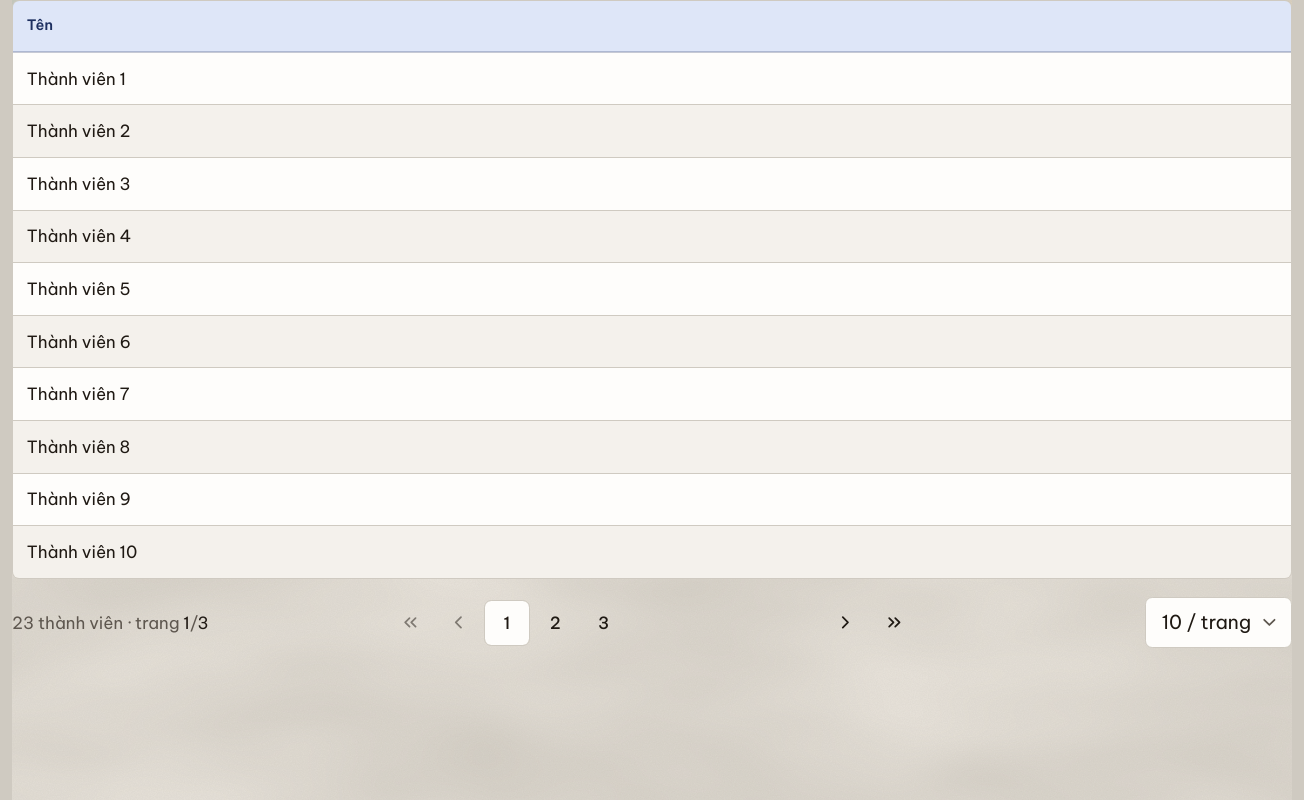
Test: DataTable › thanh phân trang đếm đúng tổng số mục và số trang
expect the element showing "23 thành viên · trang 1/3" is shown: met, box [12,612,208,632]
Click the button named "Trang sau" at point(845, 623), box [835,612,856,633]
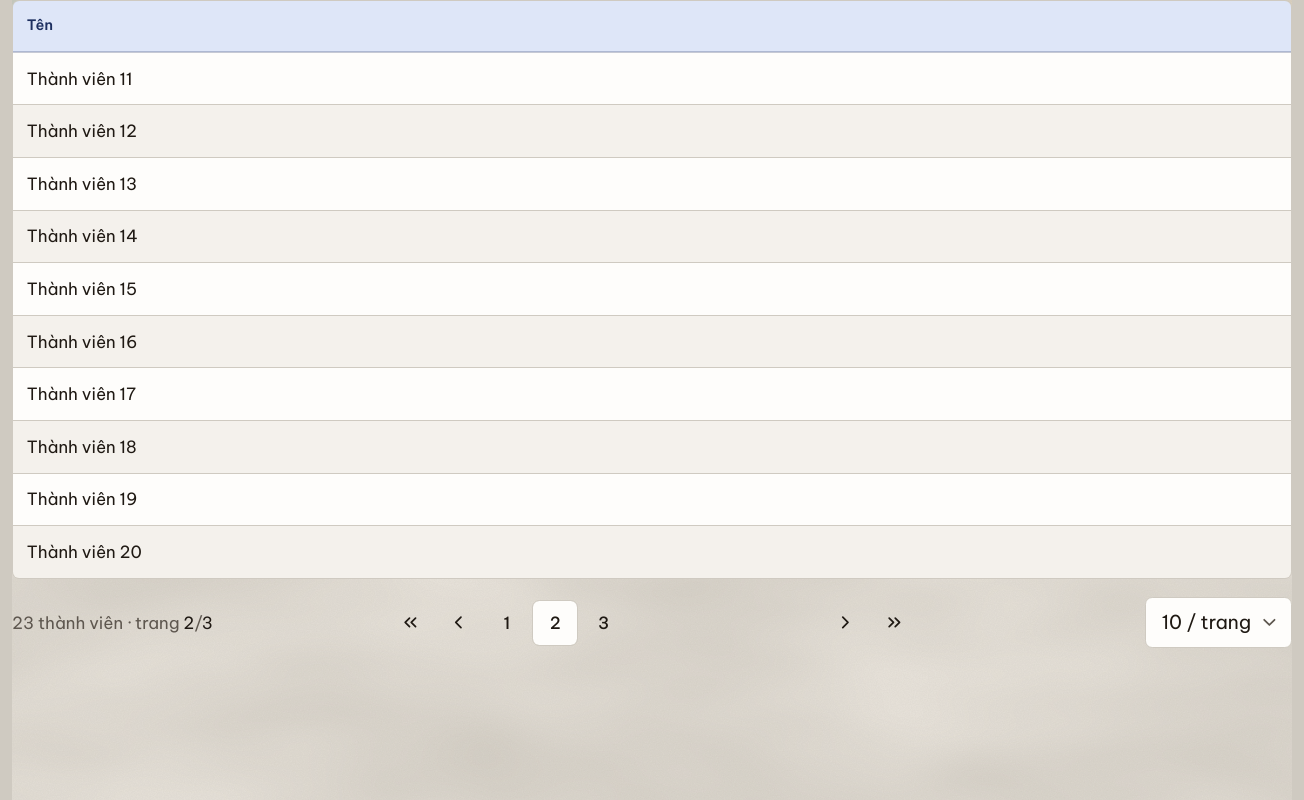
expect the element showing "23 thành viên · trang 2/3" is shown: met, box [12,612,213,632]
